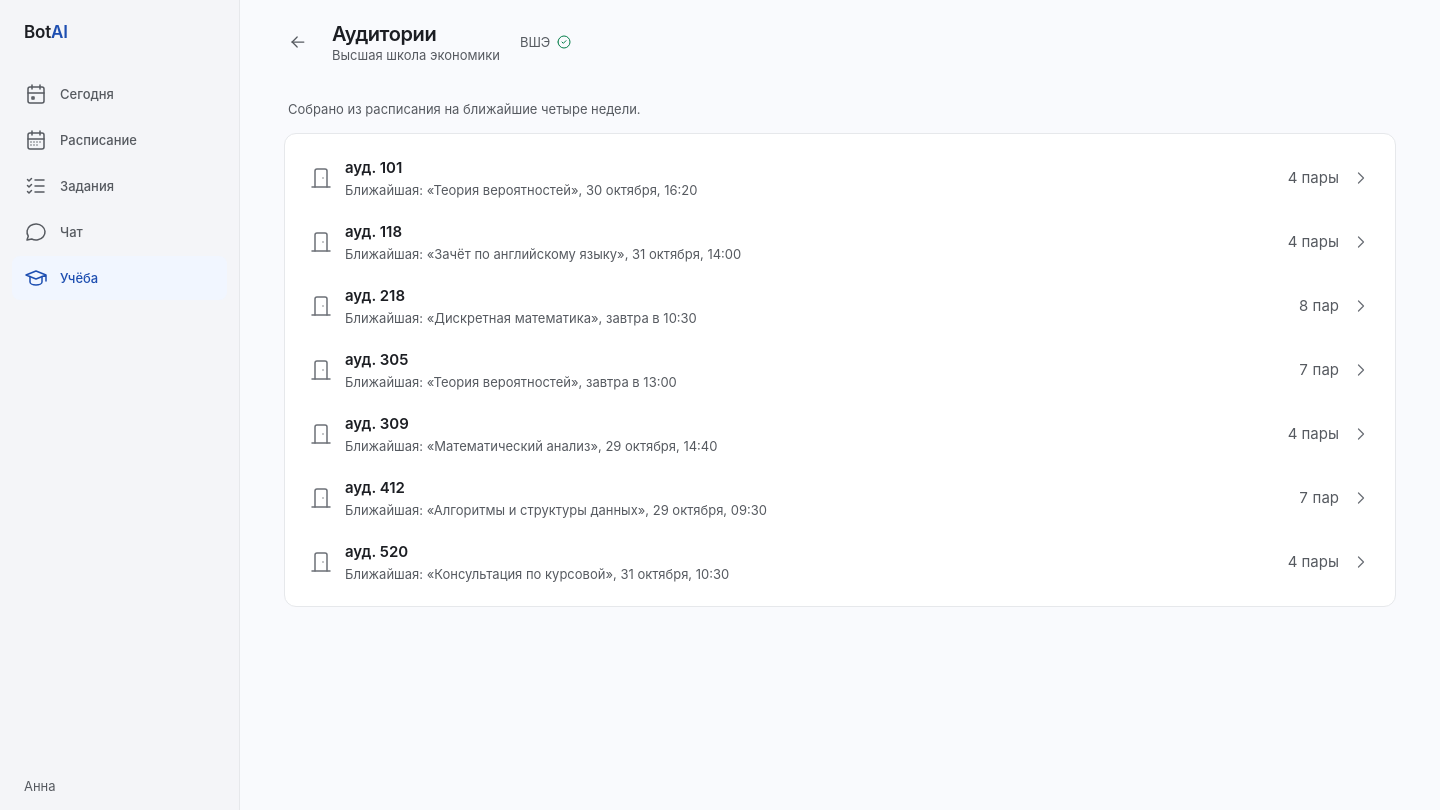
Test: «Учёба»: экраны разделов › «Аудитории»: собраны из расписания, у каждой ближайшая пара и число пар впереди
Expected: the text "Собрано из расписания на ближайшие четыре недели." is shown, [288, 101, 641, 117]
Click the button "ауд. 305" at [377, 360], box [297, 338, 1383, 402]
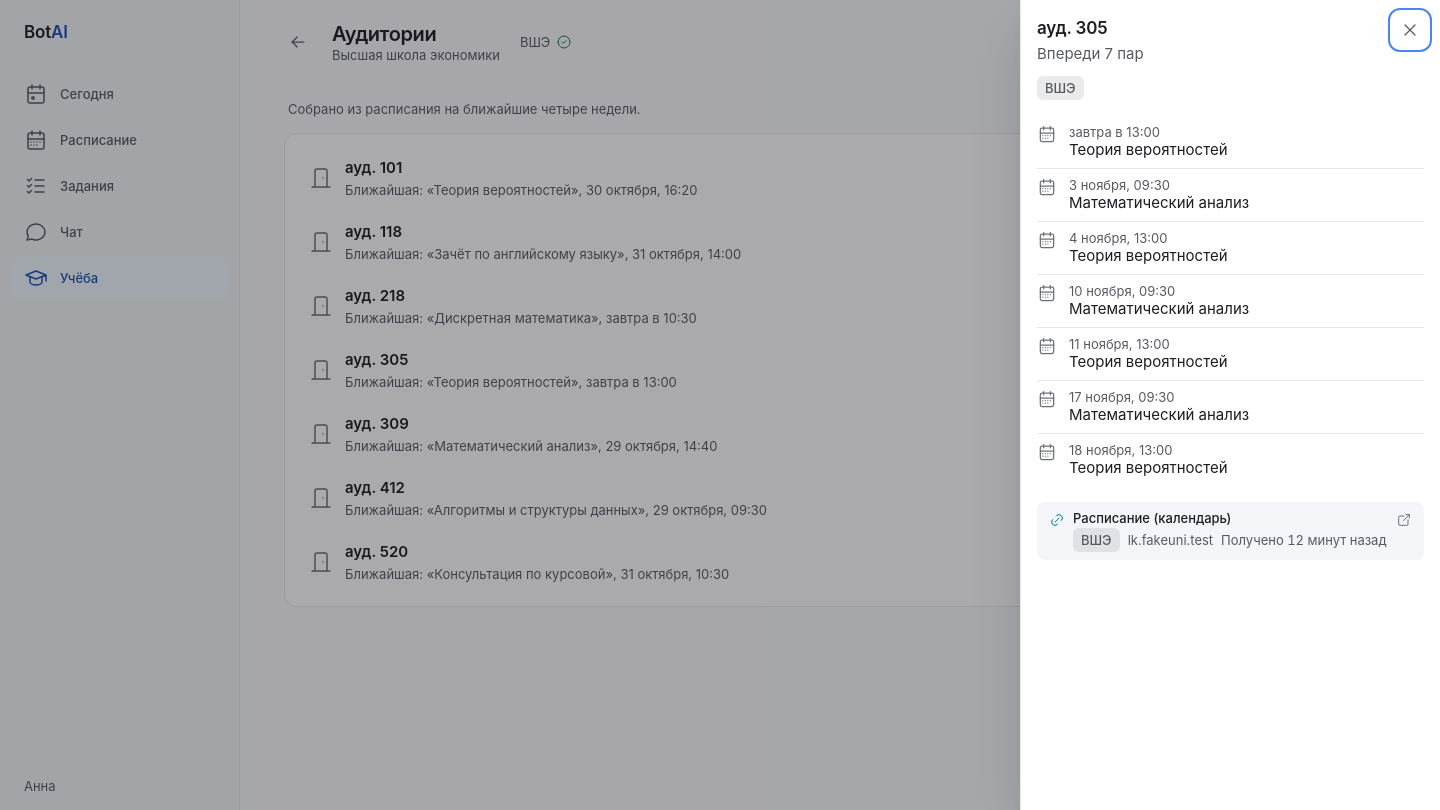
Result: the text "Впереди 7 пар" is shown at [1037, 44, 1144, 63]
